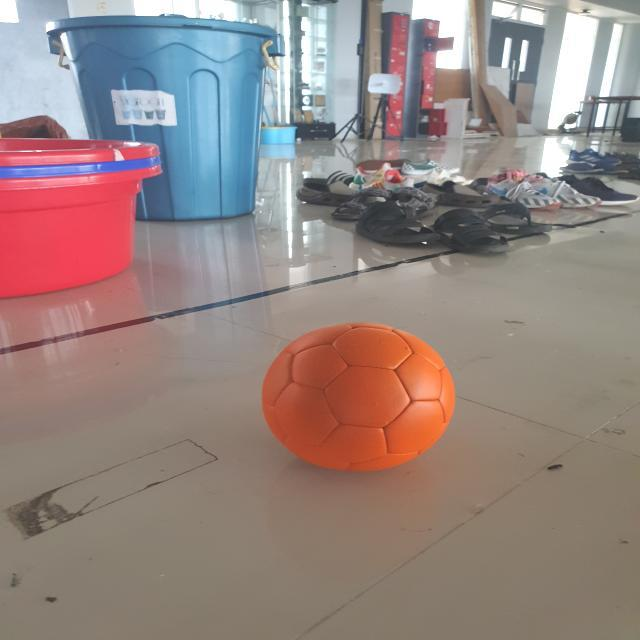bola: (252, 314, 463, 480)
